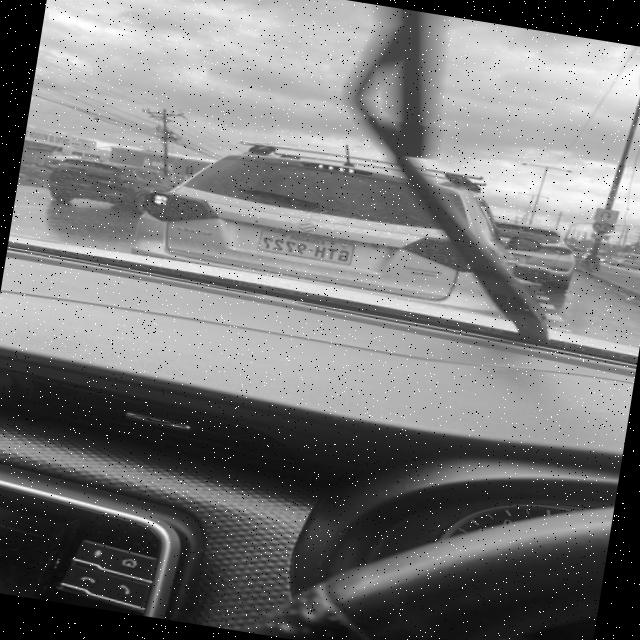Placa: (257, 231, 353, 265)
